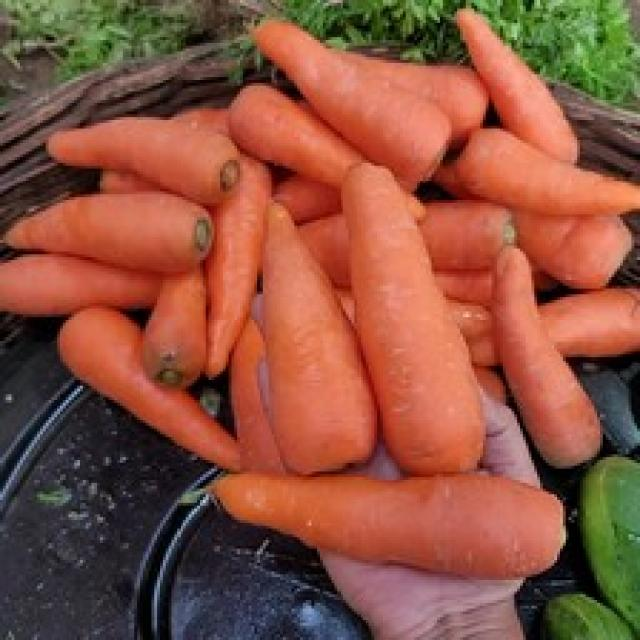Fresh_Carrot: (332, 161, 489, 501), (268, 12, 490, 191), (259, 190, 379, 487), (206, 478, 591, 560), (27, 91, 251, 208), (448, 120, 640, 228)
